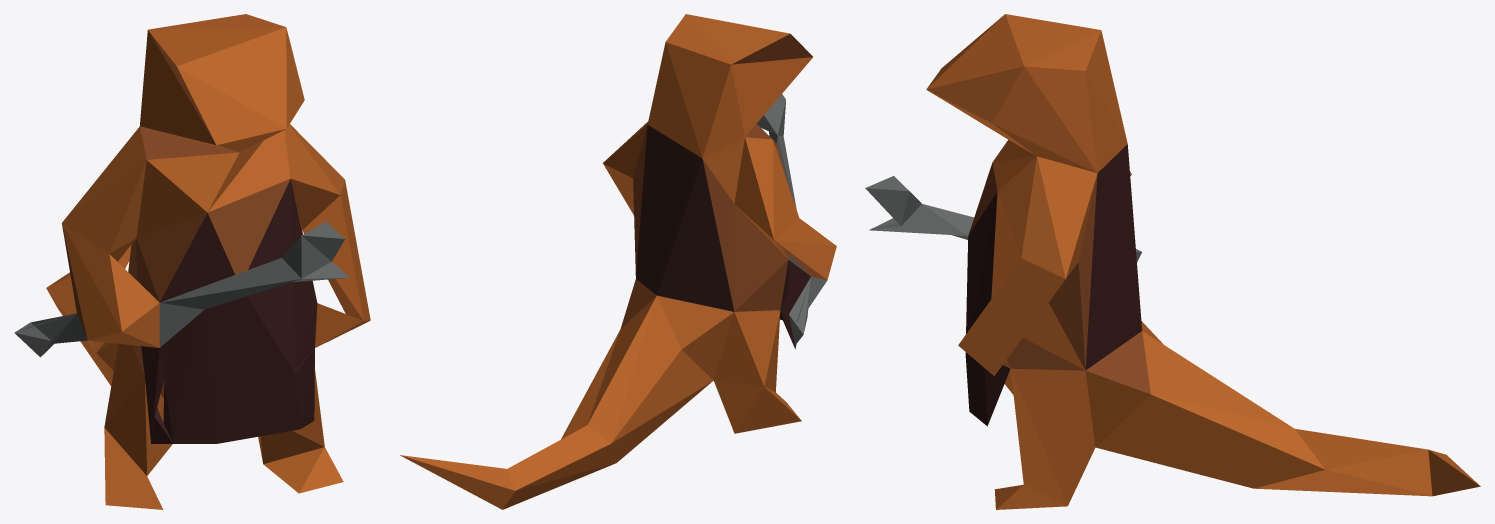
The picture shows the model from 3 angles, left to right: view 1: azimuth 30°, elevation 25°; view 2: azimuth 150°, elevation 25°; view 3: azimuth 270°, elevation 25°; orthographic projection. The views are drawn at different scales.
Visible parts, largest first — view 1: lion-200; view 2: lion-200; view 3: lion-200.
Part boxes in pixels (<box>): lion-200: <box>14,14,370,509</box>; lion-200: <box>400,14,836,509</box>; lion-200: <box>865,14,1480,509</box>.
Size of the model in its own units: 0.5271 by 0.7224 by 0.9383.
